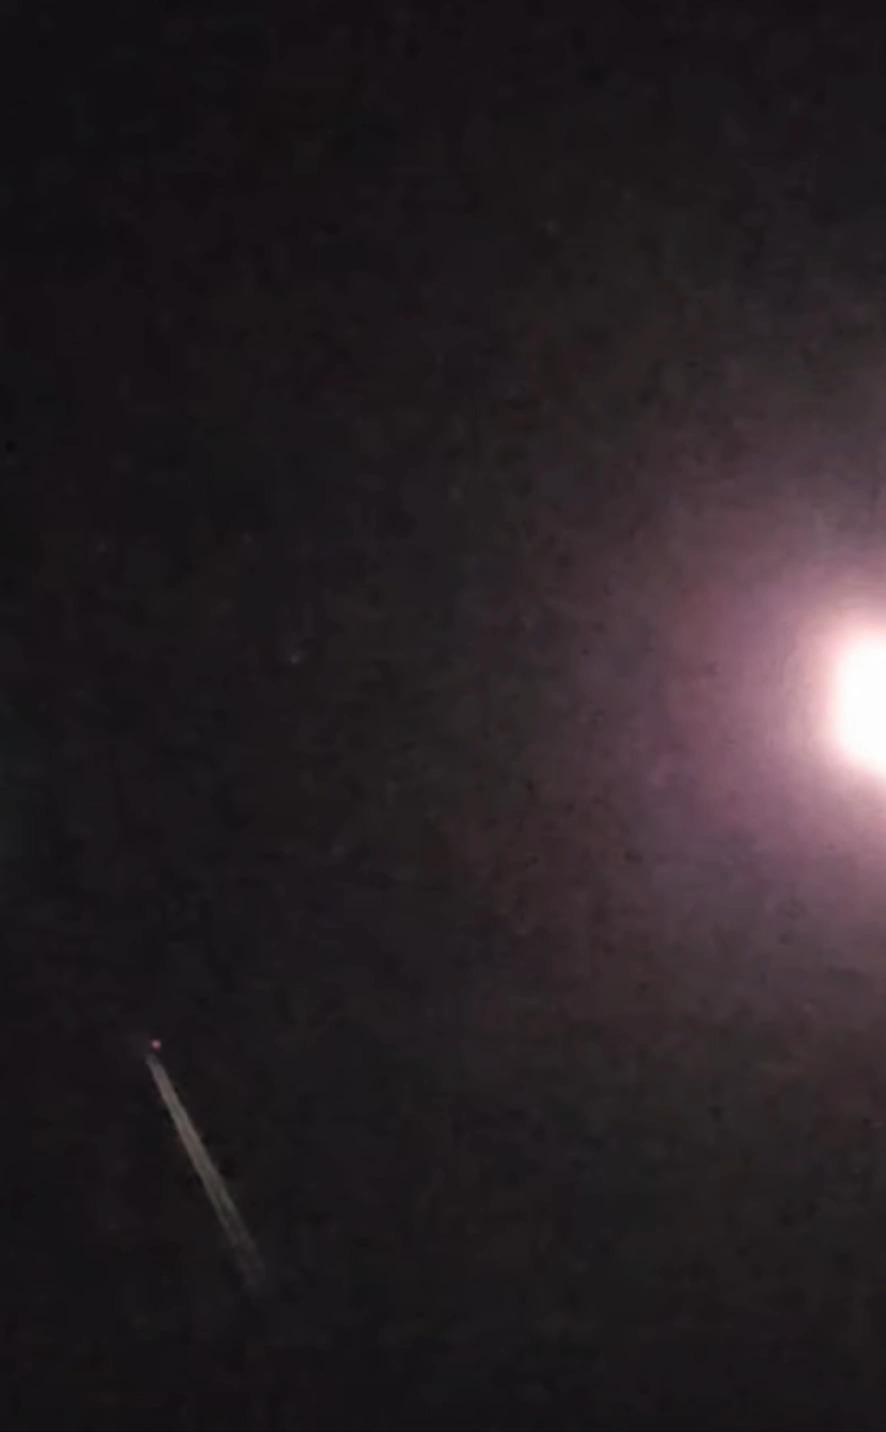Plane: (110, 989, 251, 1197)
